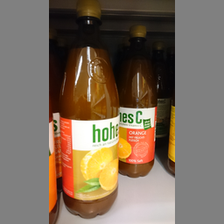juice: (61, 1, 120, 218), (119, 25, 158, 178)
